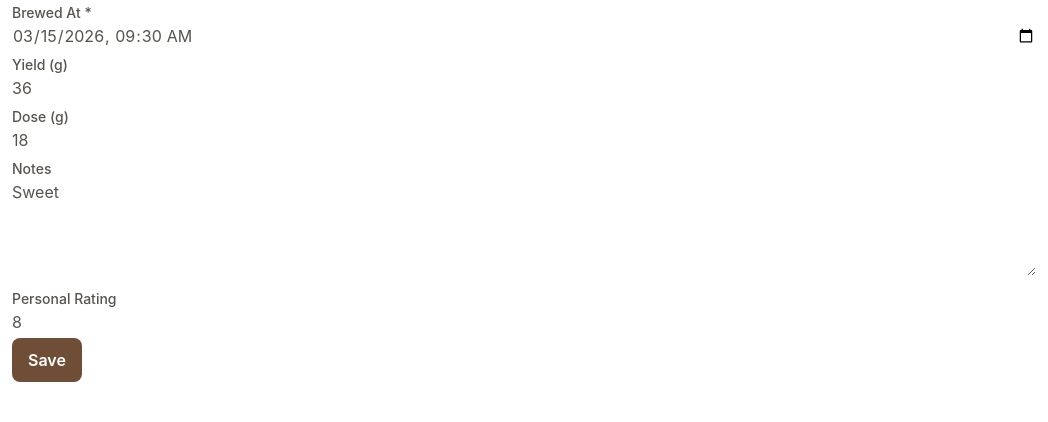
Test: BrewLogForm › rejects a zero yield with the positive-number error
The width and height of the screenshot is (1048, 422).
Step 1. Replace the text in the number field labelled "Yield (g)" with "0" → (524, 88), box [12,76,1036,100]
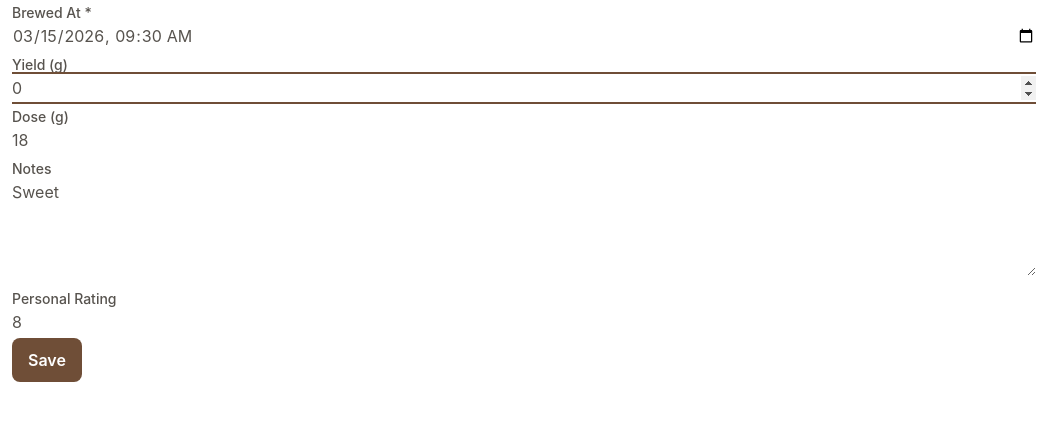
Step 2. Click the button "Save" → (47, 360), box [12,338,82,382]
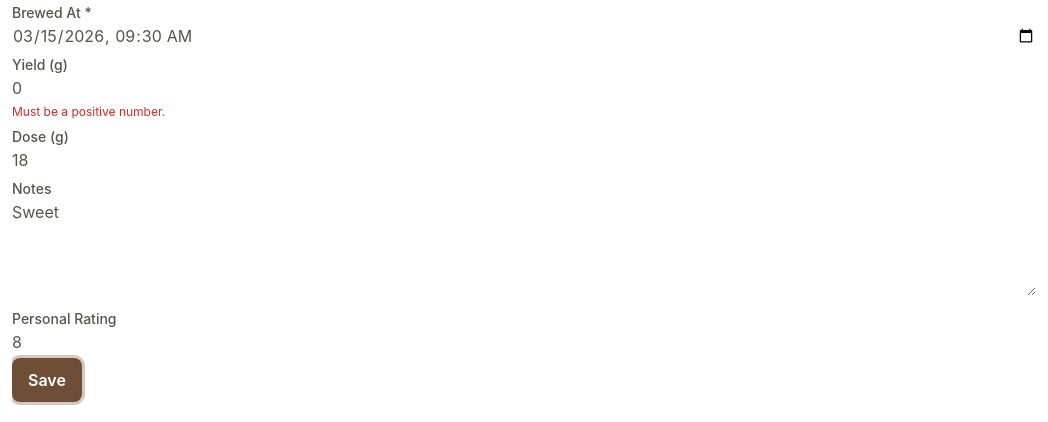
Expected: the text "Must be a positive number." is shown, [12,104,165,119]
